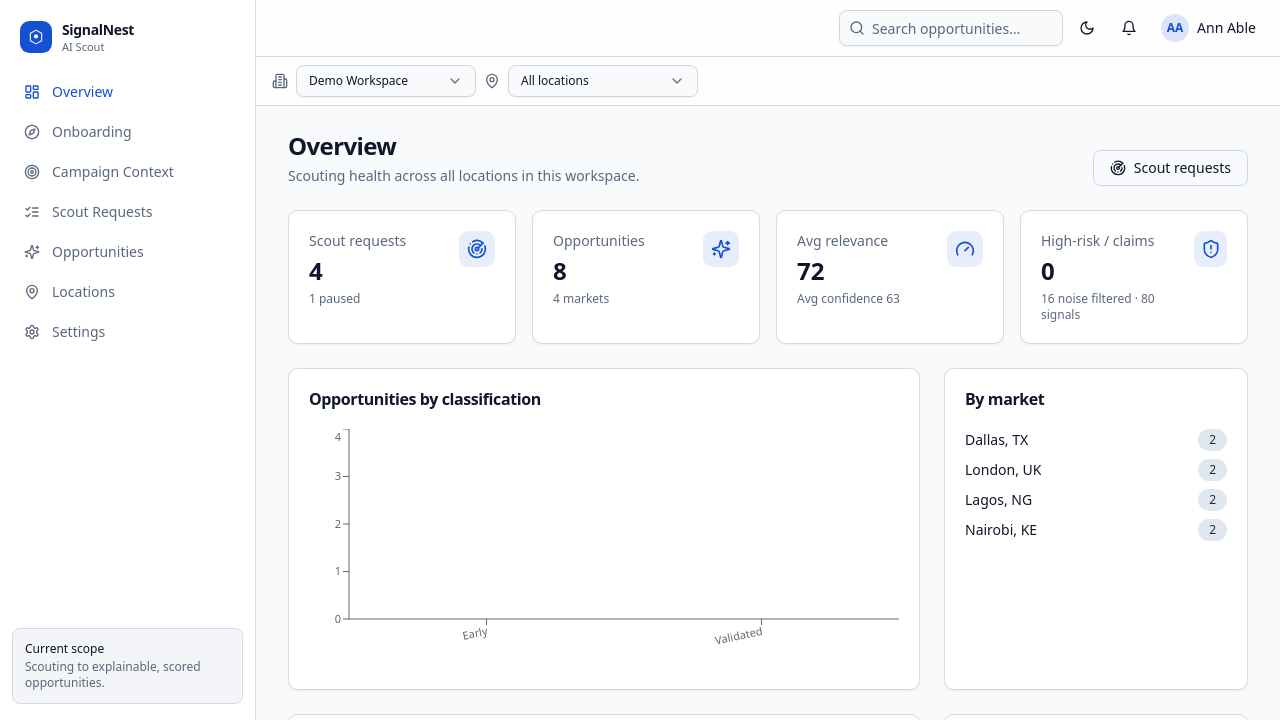
Test: a refused session ends only the tab that used it (P6-AUTH-4 follow-up) › (c) leaves the signed-in shell when another tab signed this session out
Click the link "Settings". click: (65, 331)
box: top-left (24, 322), bottom-right (105, 341)
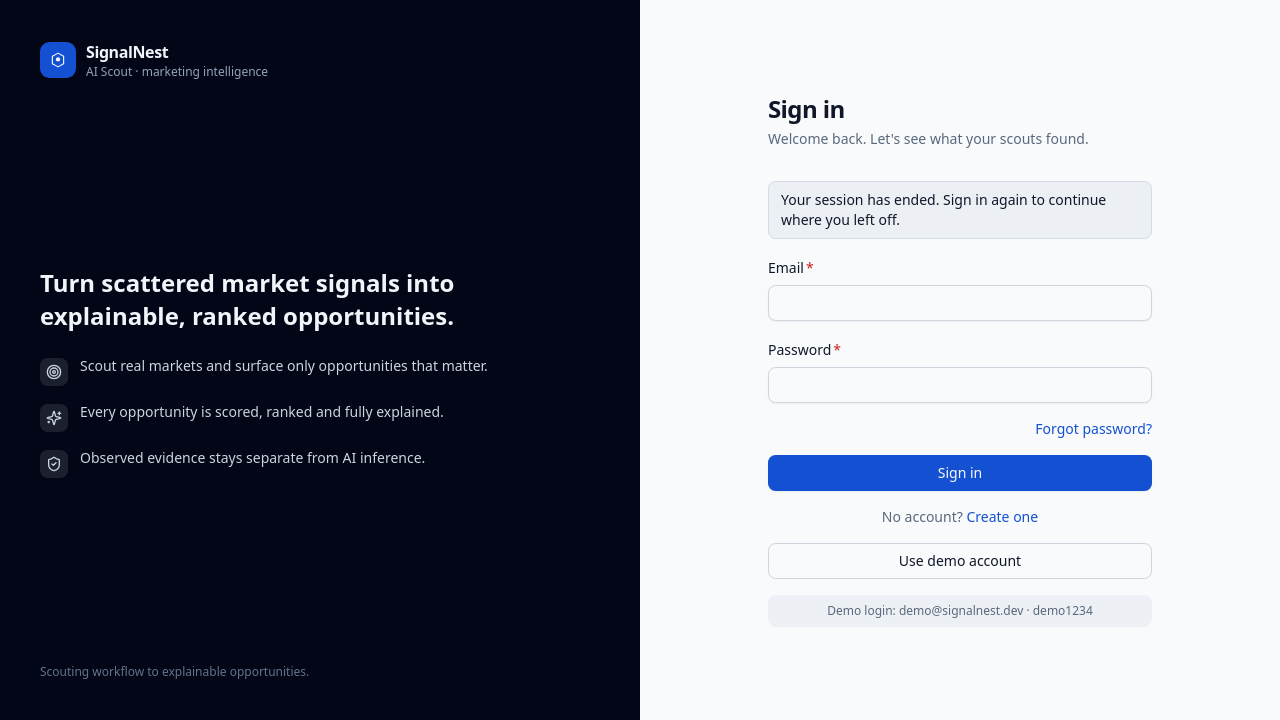
Result: the button "Sign in" is shown at top-left (768, 455), bottom-right (1152, 491)
Result: the text "Your session has ended. Sign in again to continue where you left off." is shown at top-left (768, 181), bottom-right (1152, 239)
